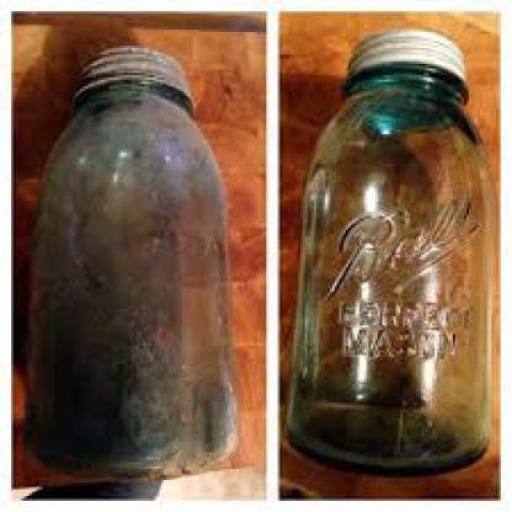glass: (24, 82, 238, 471), (285, 75, 489, 471)
metal: (348, 27, 464, 94), (66, 43, 191, 102)
